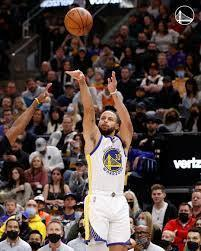ball: (64, 6, 94, 37)
human: (62, 65, 134, 251)
